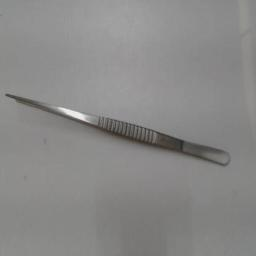DeBakey Dissector: (2, 90, 230, 170)
